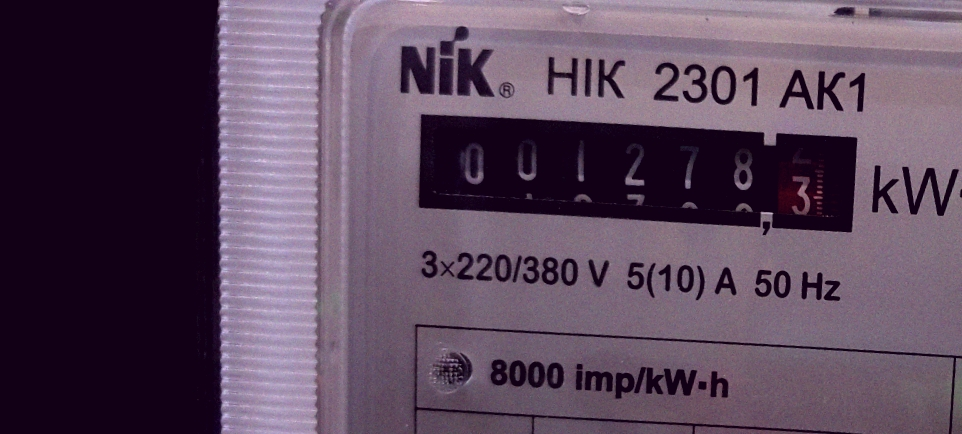0: (458, 136, 492, 187), (512, 134, 542, 183)
1: (571, 135, 593, 185)
2: (619, 138, 651, 188), (788, 144, 816, 168)
3: (785, 169, 817, 216)
7: (673, 140, 702, 191)
8: (728, 143, 759, 193)
screen: (390, 70, 881, 271)
